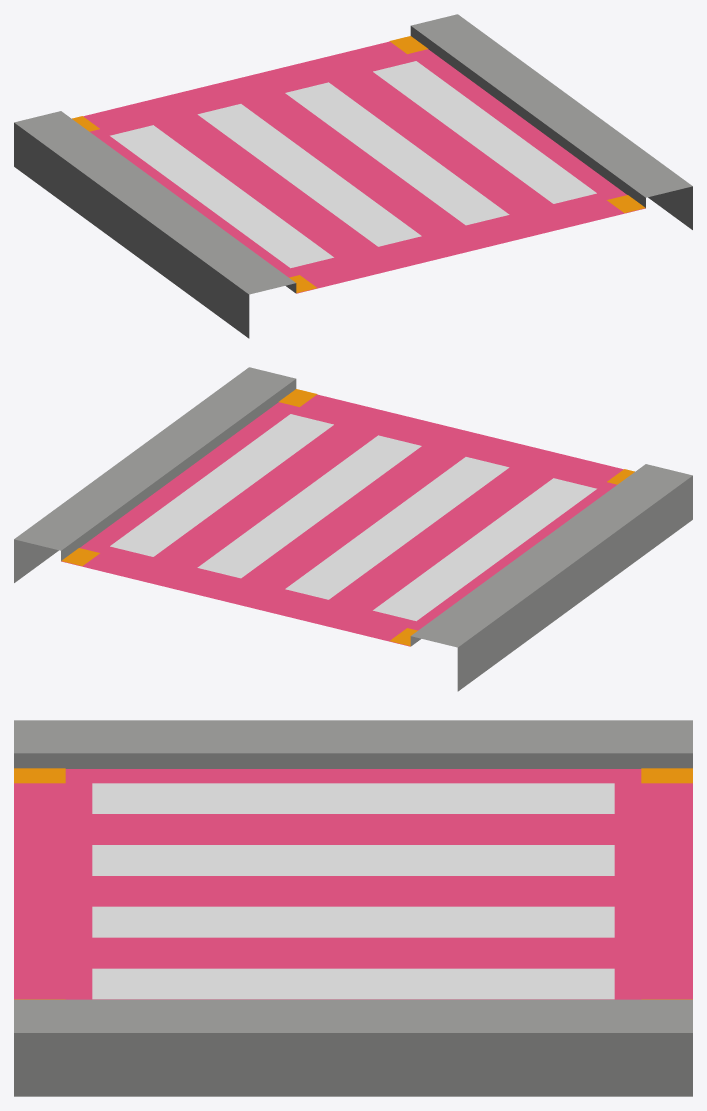
Rendered from Road_B_11.fbx.
3 views of the same model, one above another, from view 1: azimuth 30°, elevation 25°; view 2: azimuth 150°, elevation 25°; view 3: azimuth 270°, elevation 25° (orthographic). The views are drawn at different scales.
Visible parts, largest first — view 1: Road_B_11; view 2: Road_B_11; view 3: Road_B_11.
Boxes of the visible parts, left/top/right/bottom form: Road_B_11: left=14, top=14, right=692, bottom=338; Road_B_11: left=14, top=367, right=692, bottom=691; Road_B_11: left=14, top=720, right=692, bottom=1096.
Size of the model in its own units: 436 by 41.48 by 400.
